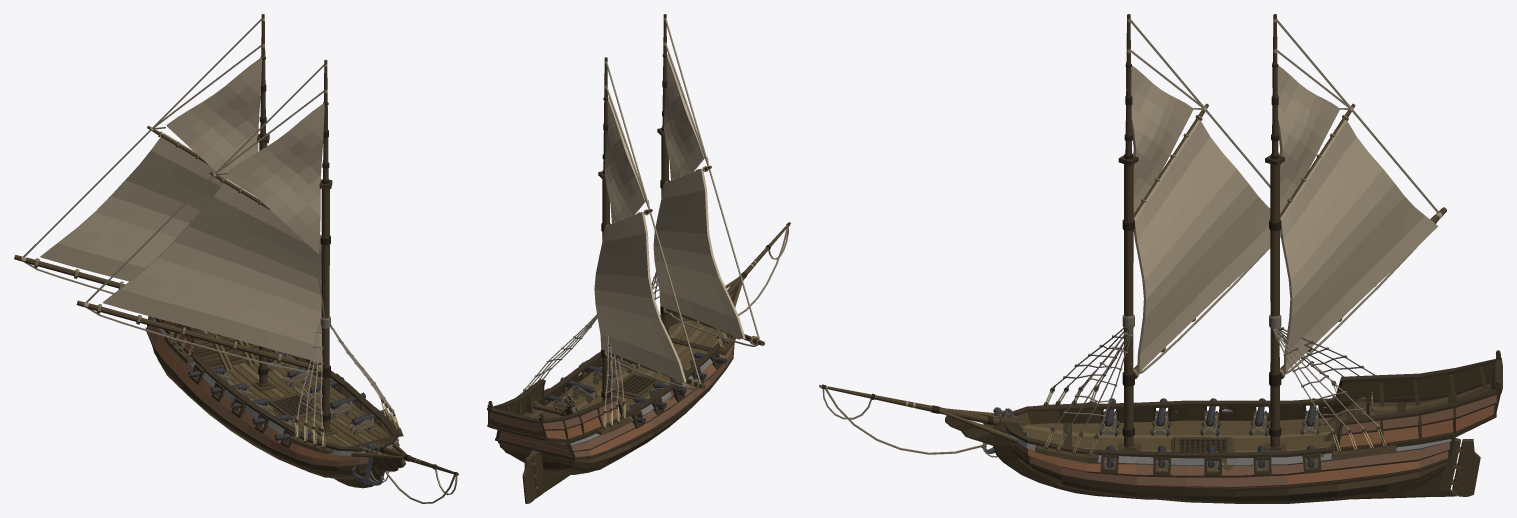
File: pirate_ship.glb
3 renders of one model, left to right at view 1: azimuth 30°, elevation 25°; view 2: azimuth 150°, elevation 25°; view 3: azimuth 270°, elevation 25°, orthographic. The views are drawn at different scales.
Parts seen in each view (by area): view 1: SM_Prop_Cannon_01; view 2: SM_Prop_Cannon_01; view 3: SM_Prop_Cannon_01.
Part boxes in pixels (x1,y1,x2,y2): SM_Prop_Cannon_01: [14, 14, 458, 503]; SM_Prop_Cannon_01: [487, 14, 790, 503]; SM_Prop_Cannon_01: [819, 14, 1502, 503].
Size of the model in its own units: 15.31 by 25.84 by 33.04.
11 materials, 11 textured.
